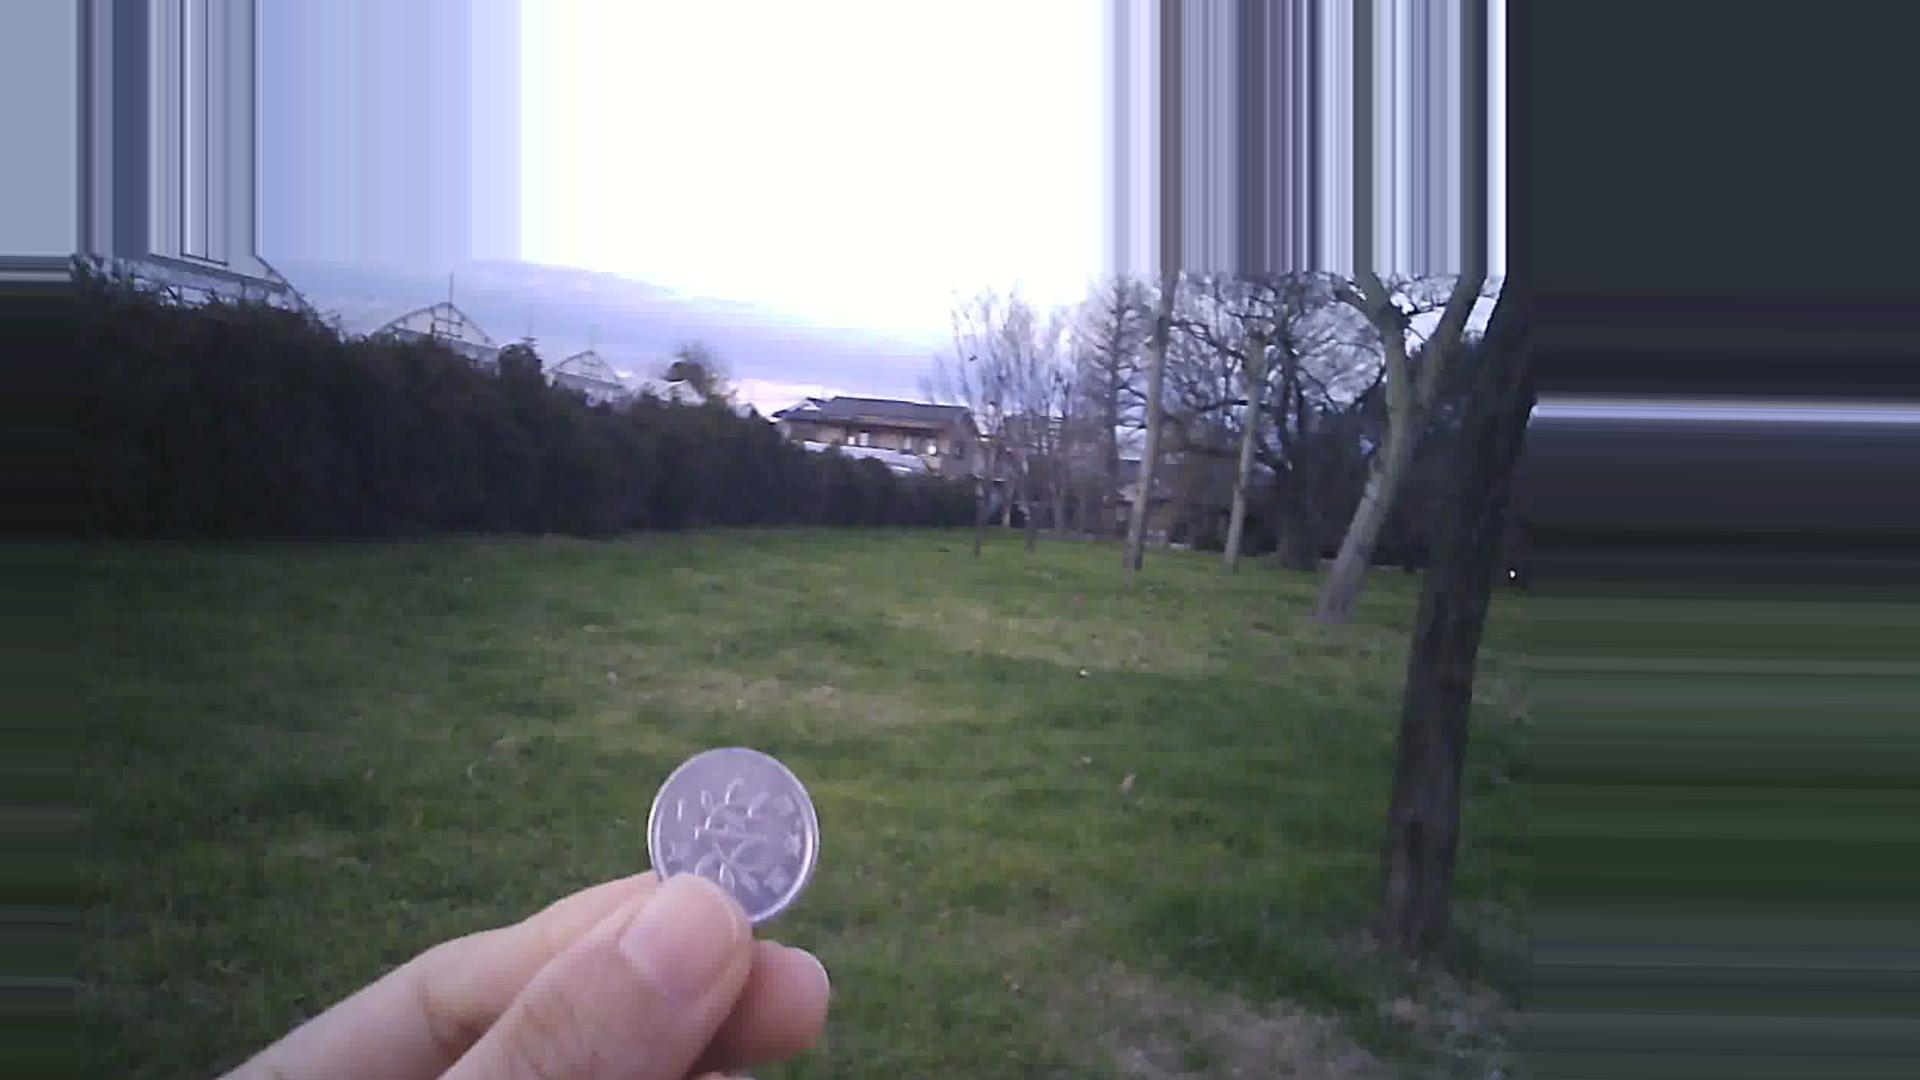1 Yen: (641, 736, 841, 952)
